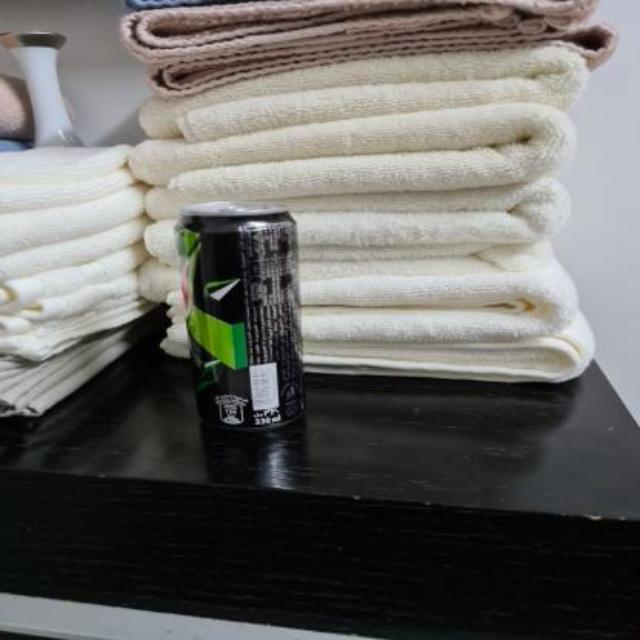metal: (177, 203, 305, 429)
